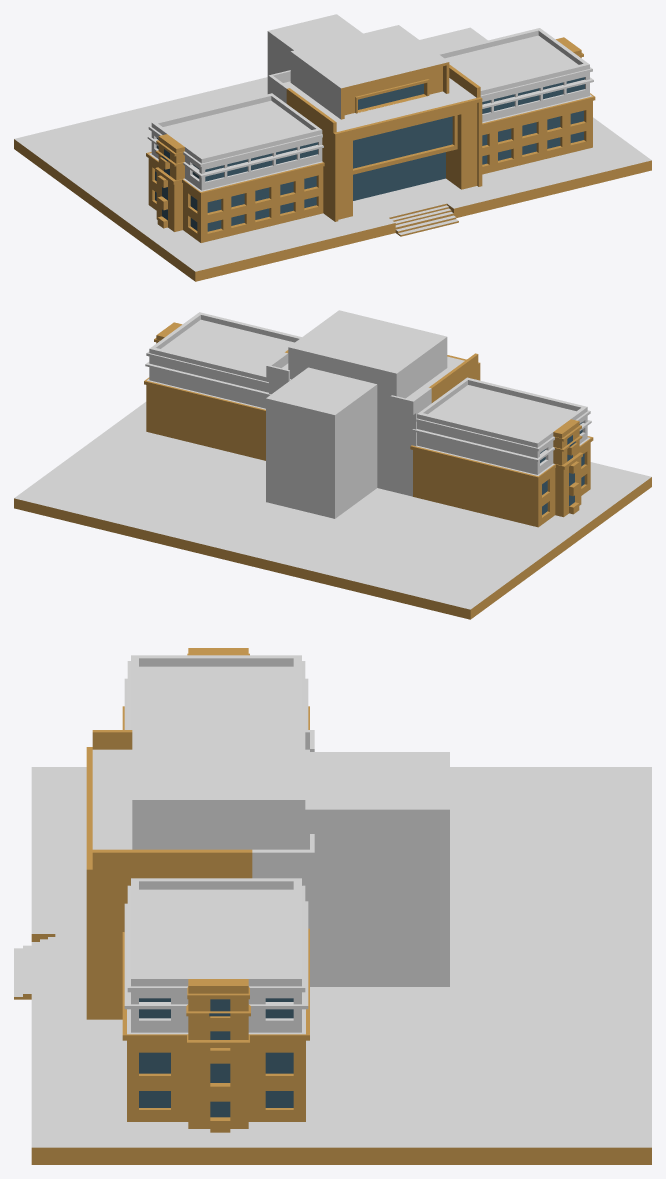
The model's file is LBC Building.fbx.
The picture shows the model from 3 angles, top to bottom: view 1: azimuth 30°, elevation 25°; view 2: azimuth 150°, elevation 25°; view 3: azimuth 270°, elevation 25°; orthographic projection. The views are drawn at different scales.
Visible parts, largest first — view 1: pCube1, pCube4, pCube3; view 2: pCube4, pCube1, pCube3; view 3: pCube4, pCube3, pCube1.
Part boxes in pixels (bbox=[...]): pCube1: bbox=[146, 28, 595, 242]; pCube4: bbox=[14, 27, 651, 281]; pCube3: bbox=[267, 14, 482, 221]; pCube4: bbox=[14, 402, 651, 619]; pCube1: bbox=[144, 312, 593, 527]; pCube3: bbox=[266, 310, 480, 518]; pCube4: bbox=[14, 767, 651, 1164]; pCube3: bbox=[86, 709, 449, 1019]; pCube1: bbox=[122, 648, 309, 1132].
Size of the model in its own units: 55.22 by 14.93 by 39.11.
